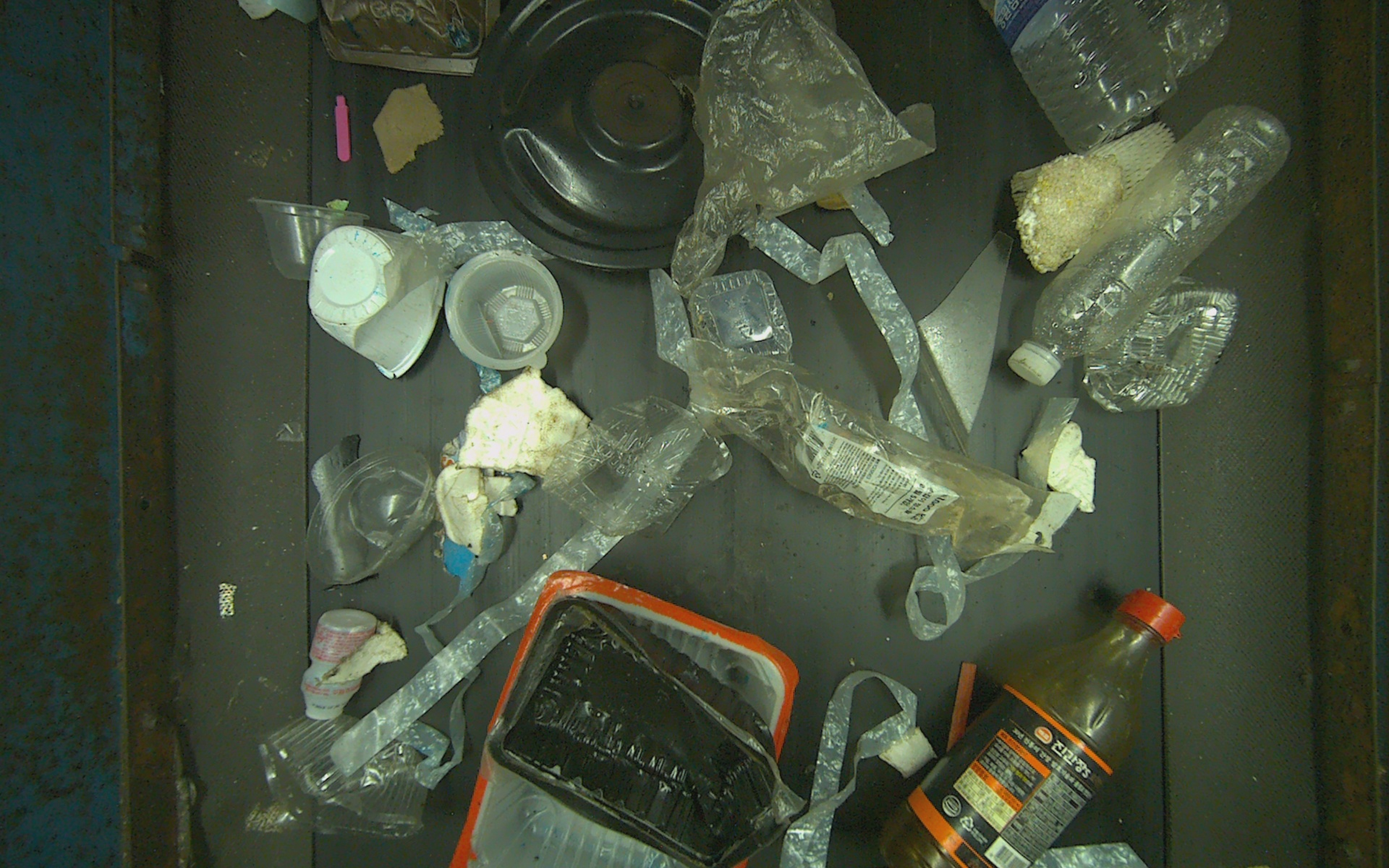PET: (879, 589, 1185, 868), (1009, 104, 1291, 385)
PET-C: (543, 397, 732, 539), (261, 714, 429, 839), (1084, 277, 1239, 412), (306, 446, 435, 585)
PP-B: (467, 0, 720, 269)
PS-W: (307, 225, 445, 379), (302, 609, 377, 720)
